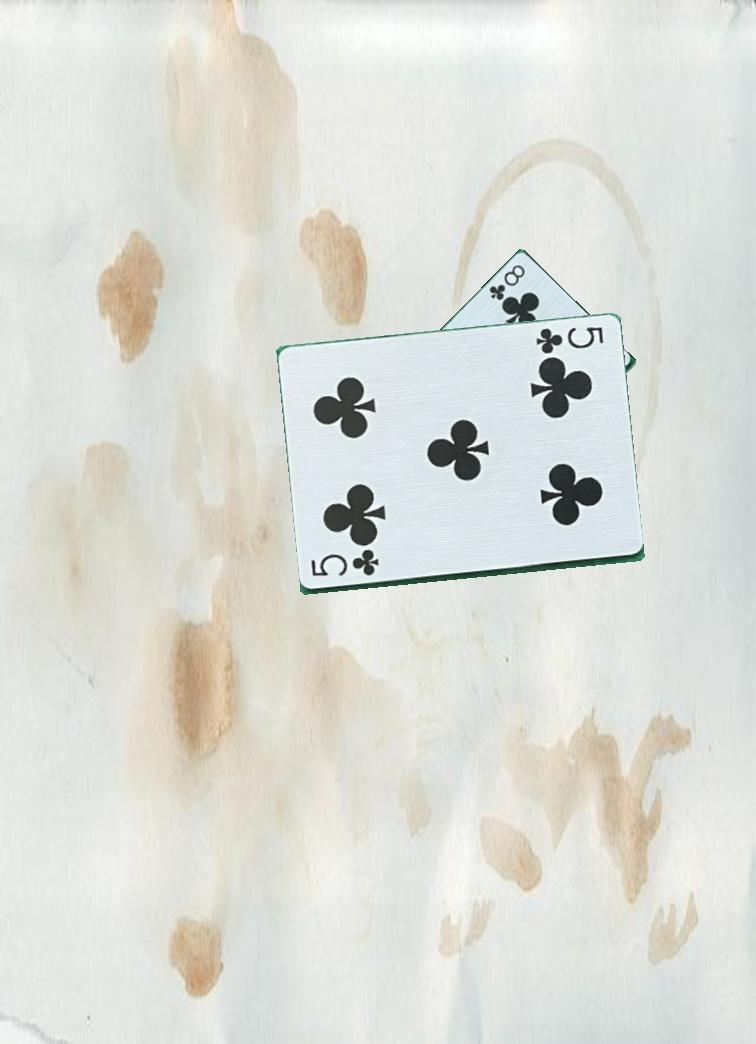5c: (533, 322, 607, 356), (304, 549, 383, 579)
8c: (486, 261, 528, 304)
